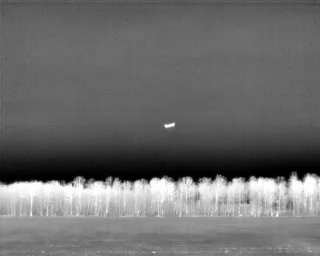DRONE: (160, 118, 180, 134)
